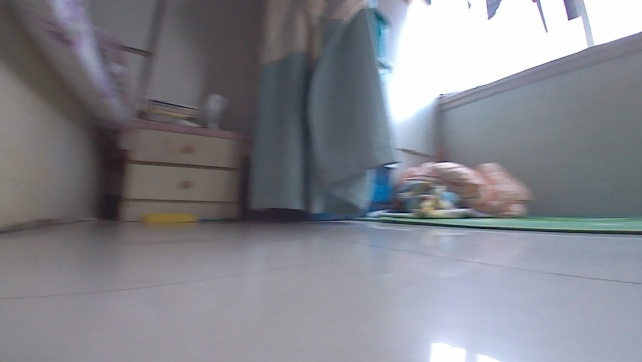bed1: (0, 0, 131, 235)
blanket: (355, 215, 641, 235)
cabinet: (116, 118, 245, 225)
